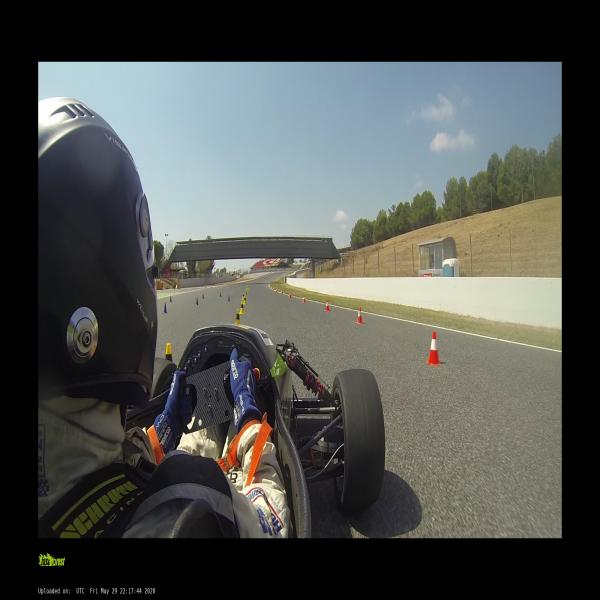blue_cone: (164, 303, 167, 312), (196, 297, 198, 305), (170, 295, 172, 302), (228, 295, 230, 301), (219, 291, 221, 297), (202, 293, 204, 298)
orange_cone: (427, 332, 441, 366), (357, 307, 363, 324), (326, 299, 329, 311), (303, 296, 306, 302), (281, 290, 283, 295), (290, 292, 291, 298)
yellow_cone: (166, 344, 173, 364), (234, 309, 241, 328), (240, 301, 245, 314), (244, 295, 246, 304), (245, 289, 247, 295), (243, 293, 244, 299)
